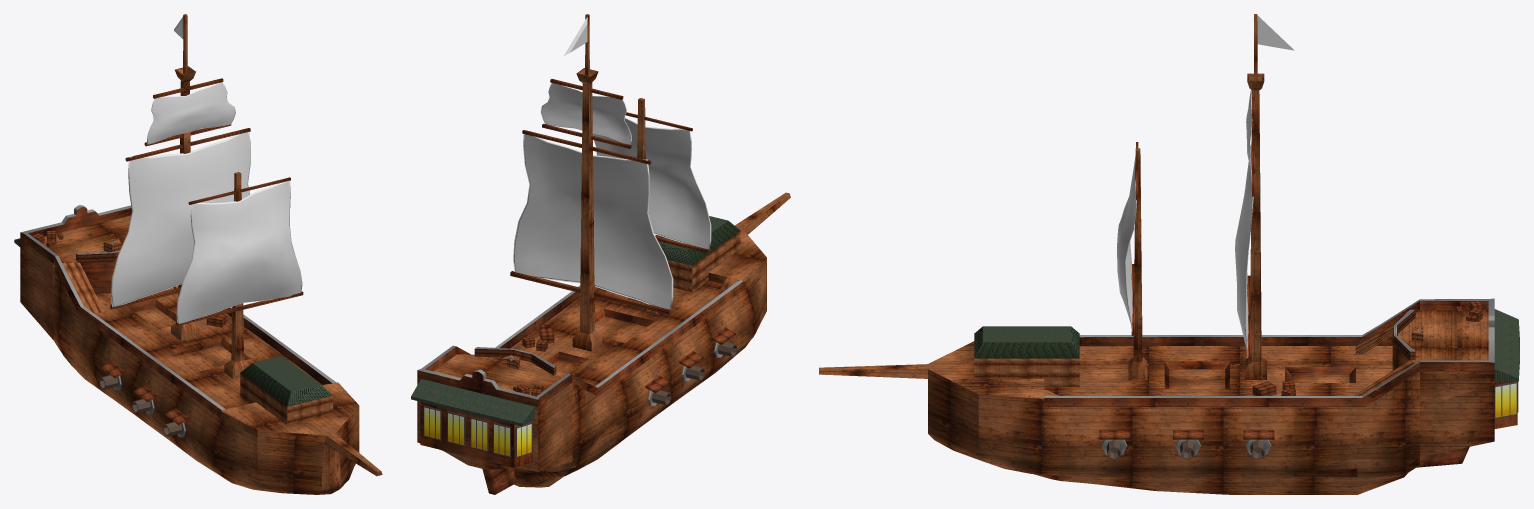
The model's file is PlayerBoat100HP.fbx.
3 views of the same model, side by side, from view 1: azimuth 30°, elevation 25°; view 2: azimuth 150°, elevation 25°; view 3: azimuth 270°, elevation 25° (orthographic). The views are drawn at different scales.
Visible parts, largest first — view 1: pCube1, pCube17, pCube21, pCube27, pCube28, pCube2, pCube19, pCube20, pCube4; view 2: pCube1, pCube17, pCube21, pCube28, pCube27, pCube16, pCube4, pCube6, pCube19, pCube43, pCube31, pCube39 (+2 smaller); view 3: pCube1, pCube27, pCube17, pCube21.
Boxes of the visible parts, x1,y1,x2,y2 form: pCube1: (14, 14, 382, 494); pCube17: (110, 132, 250, 307); pCube21: (176, 180, 302, 323); pCube27: (240, 356, 332, 424); pCube28: (147, 82, 235, 144); pCube2: (62, 262, 103, 313); pCube19: (125, 128, 250, 161); pCube20: (176, 291, 303, 325); pCube4: (76, 250, 119, 262); pCube1: (411, 14, 790, 487); pCube17: (513, 134, 673, 309); pCube21: (592, 117, 711, 249); pCube28: (540, 83, 631, 144); pCube27: (658, 216, 740, 292); pCube16: (510, 271, 670, 314); pCube4: (474, 347, 556, 375); pCube6: (482, 468, 517, 494); pCube19: (522, 130, 651, 164); pCube43: (471, 419, 487, 450); pCube31: (424, 407, 440, 439); pCube39: (448, 413, 463, 444); pCube1: (819, 14, 1519, 494); pCube27: (974, 326, 1079, 387); pCube17: (1235, 142, 1253, 357); pCube21: (1117, 156, 1136, 331).
Bounding box in the file's own units: 5.52 × 13.87 × 18.43.
